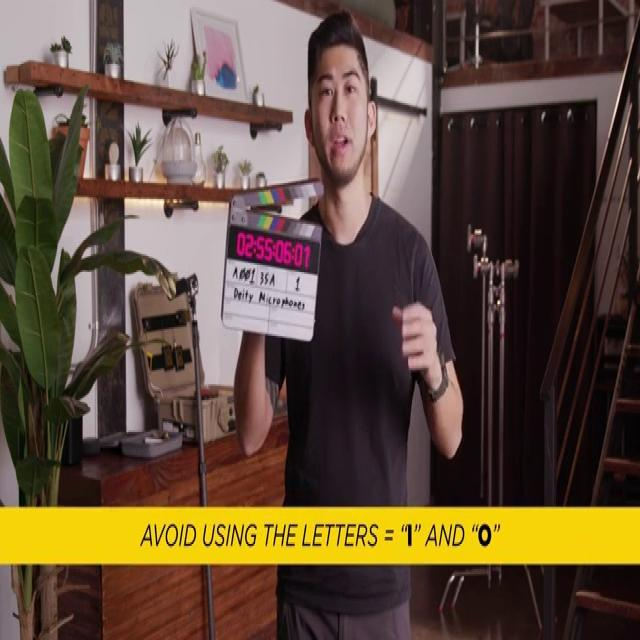Clapperboard: (220, 175, 322, 342)
